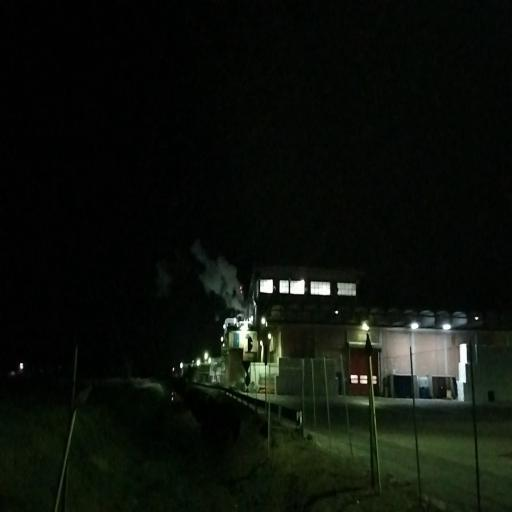leakage: (190, 222, 254, 320), (150, 251, 174, 299)
